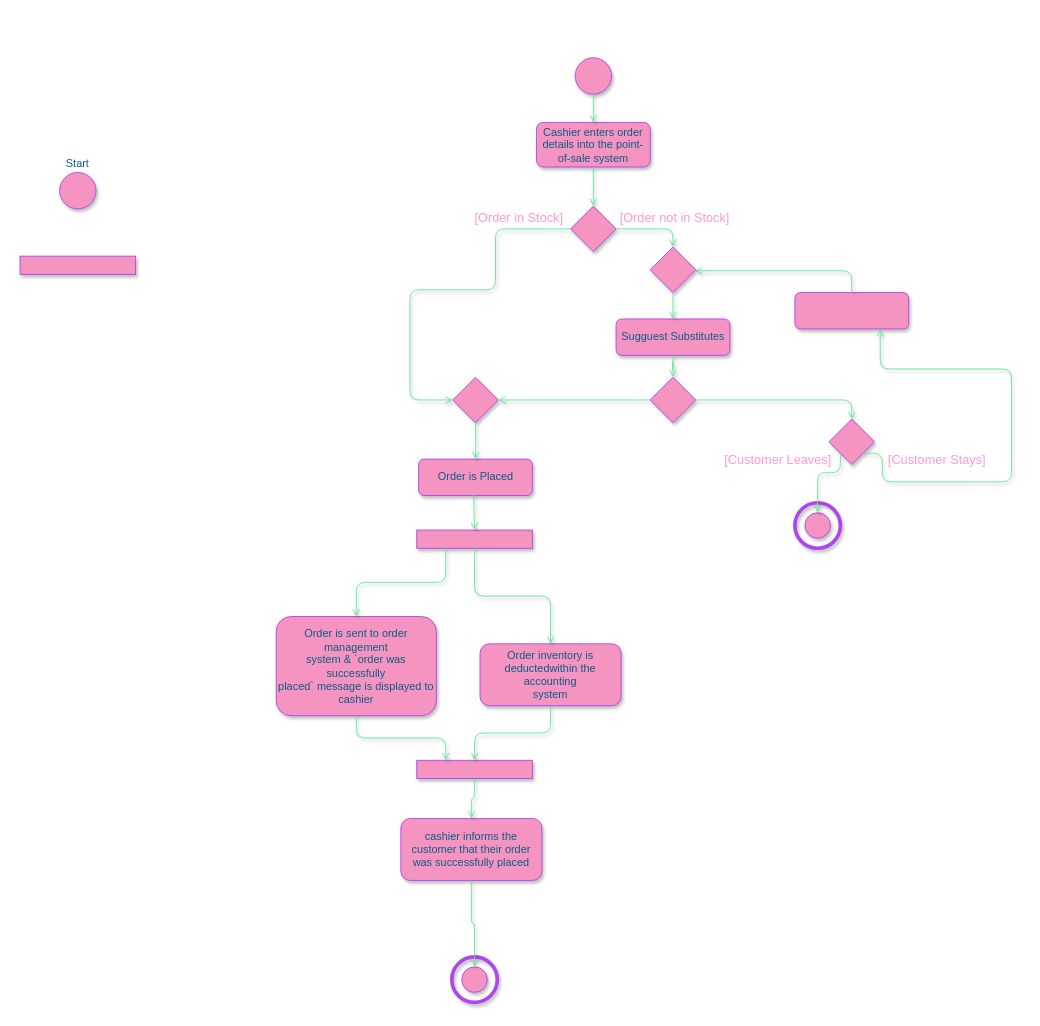
This 1040x1026 diagram has some shape labels left out. Each missing label, with the centre of its shape:
[Accept Substitutes] [ Reject Substitutes ]: point (673, 401)
Customer Provides Order: point (594, 77)
Parallelism: point (78, 266)
Request New Substitutes: point (852, 311)
